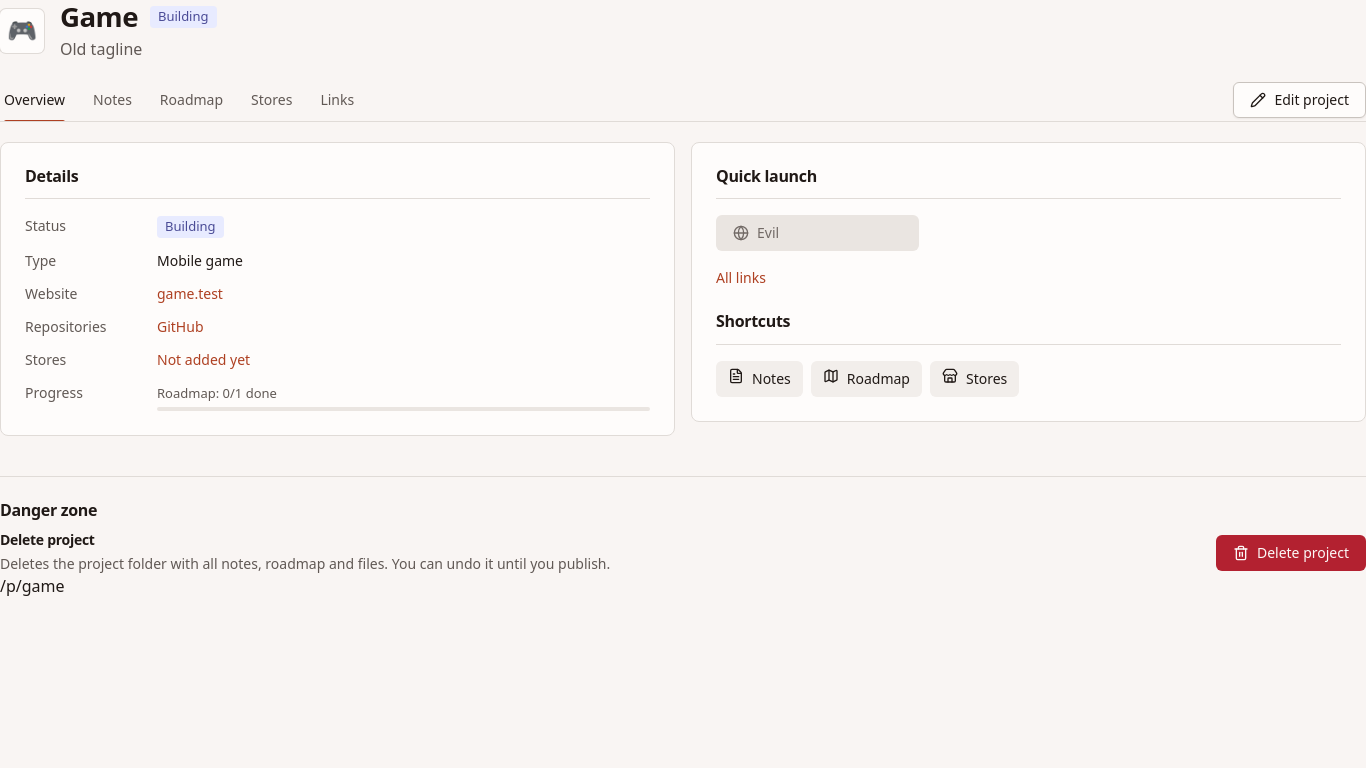
Test: OverviewTab › deletes the project only after typing its name
Step 1. Click the button "Delete project" → point(1291, 553), box [1216,535,1365,571]
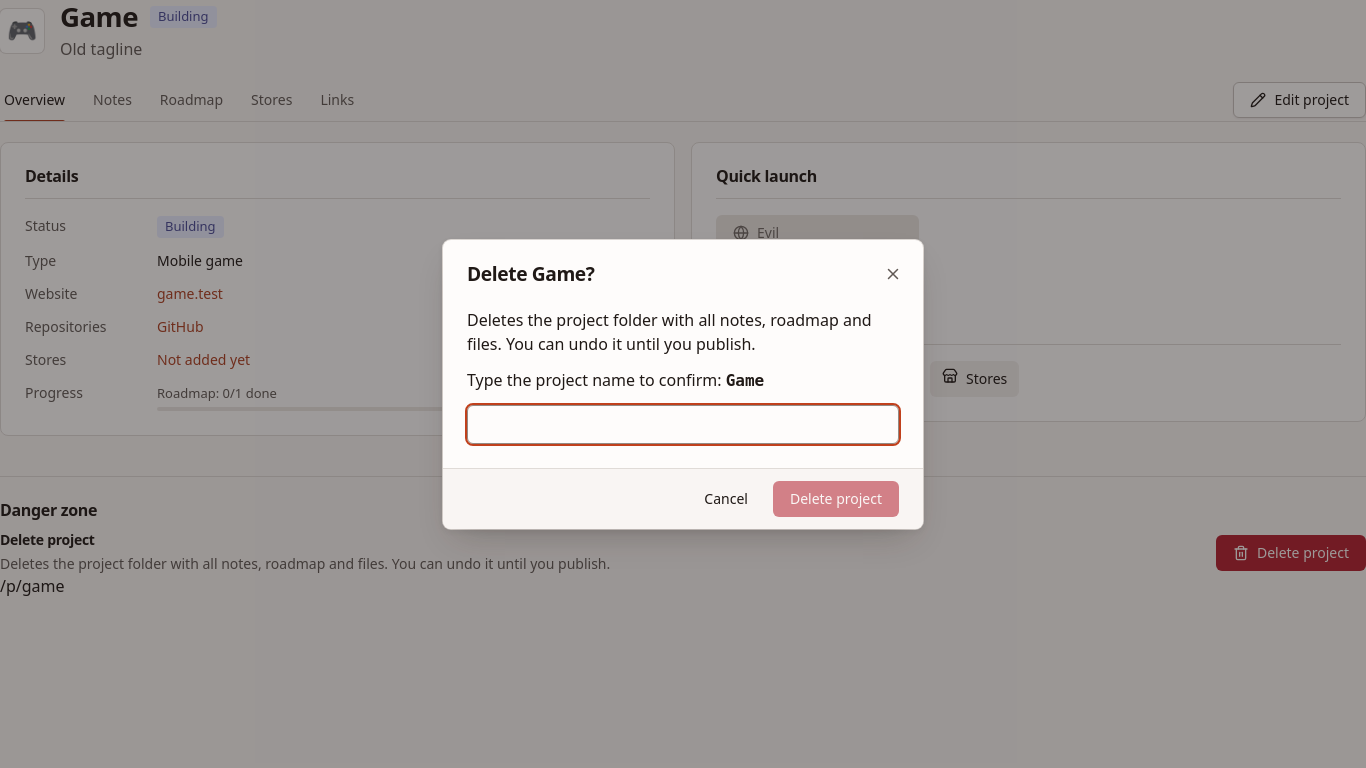
Expected: the button "Delete project" is disabled, [773,480,899,516]
Step 2. Type "Gam" into the field named "Project name" → point(683, 424), box [467,404,899,444]
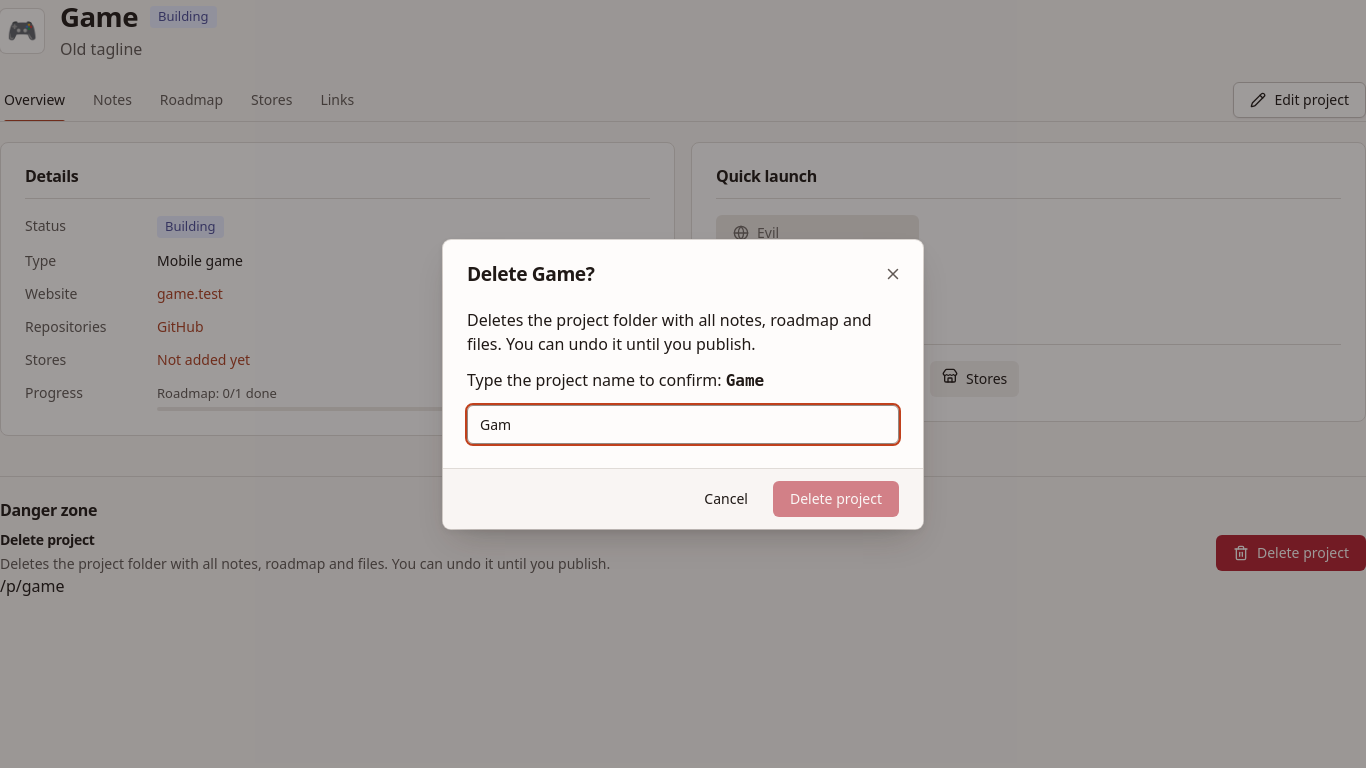
Step 3. Type "e" into the field named "Project name" → point(683, 424), box [467,404,899,444]
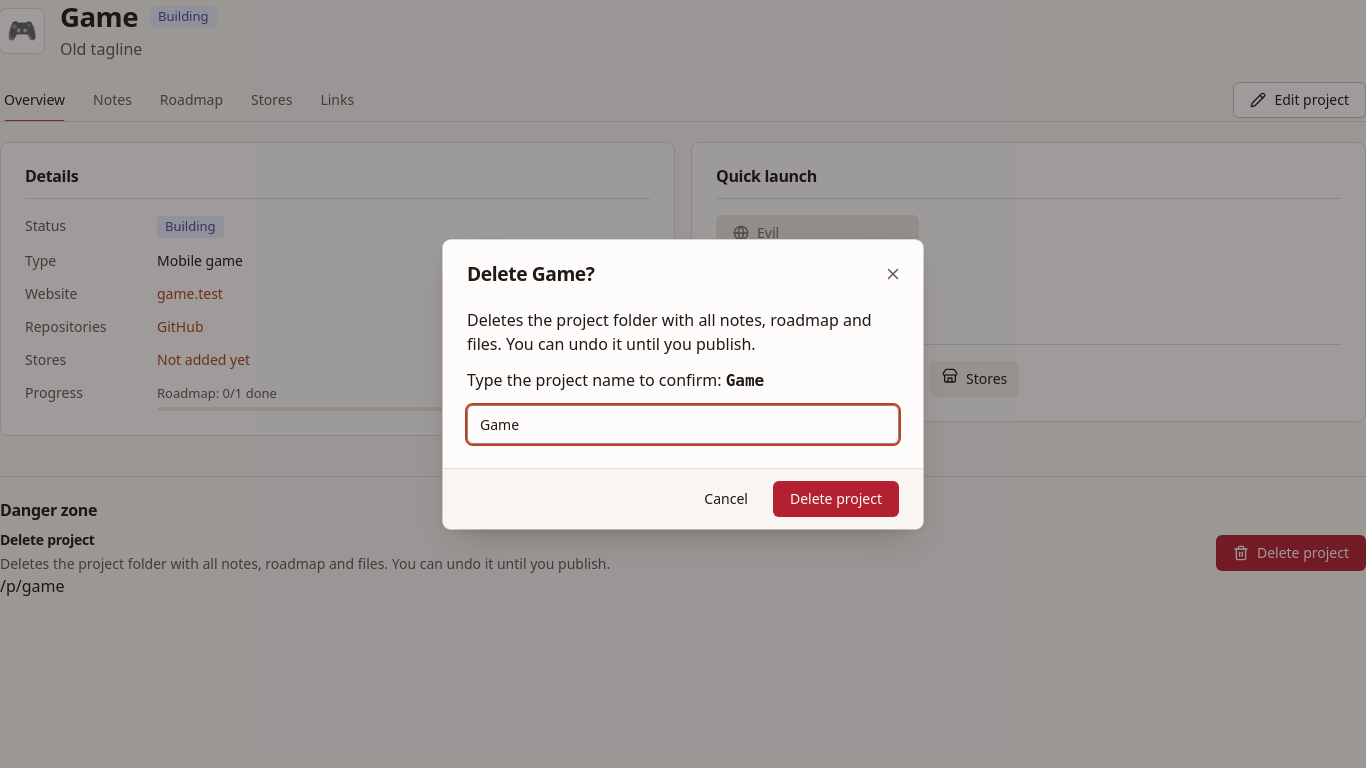
Step 4. Click the button "Delete project" → point(836, 498), box [773,480,899,516]
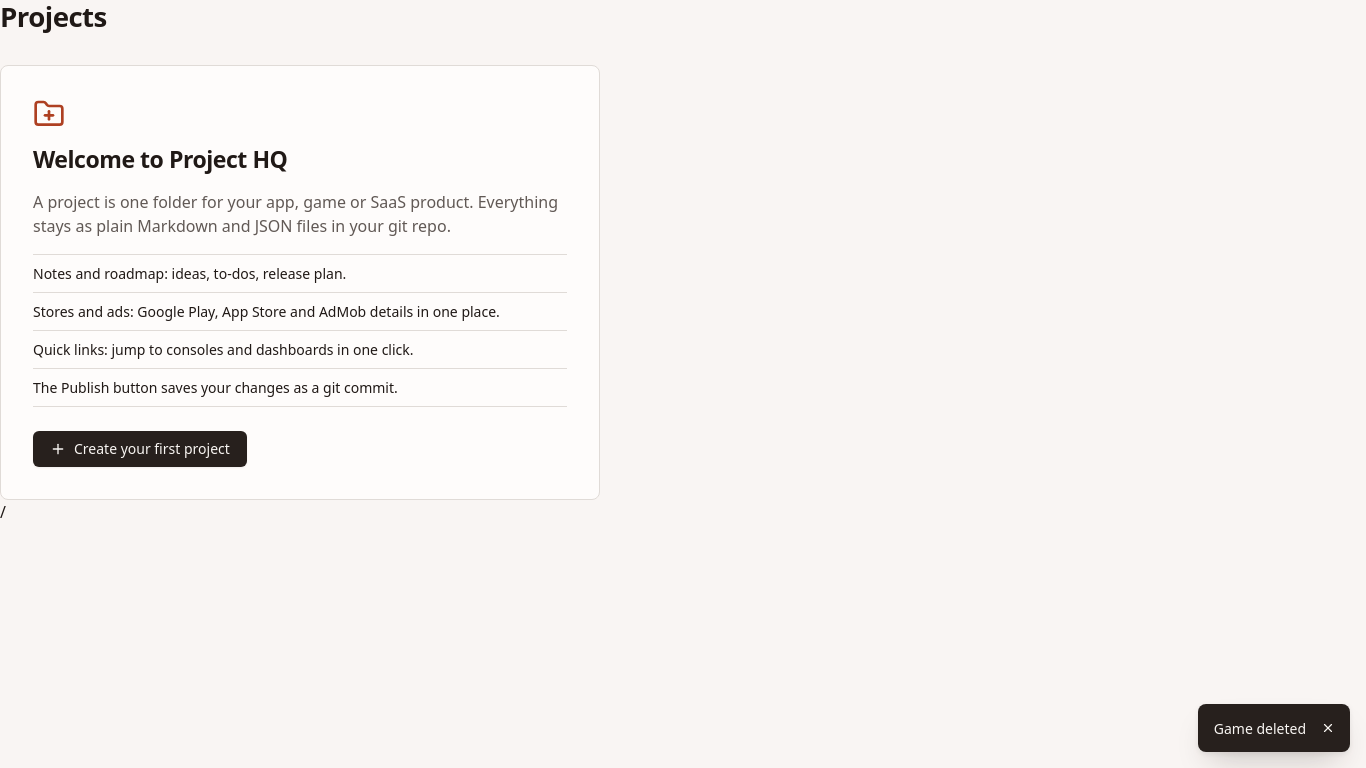
Expected: the text with test id "location" reads "/", [0,501,6,523]
